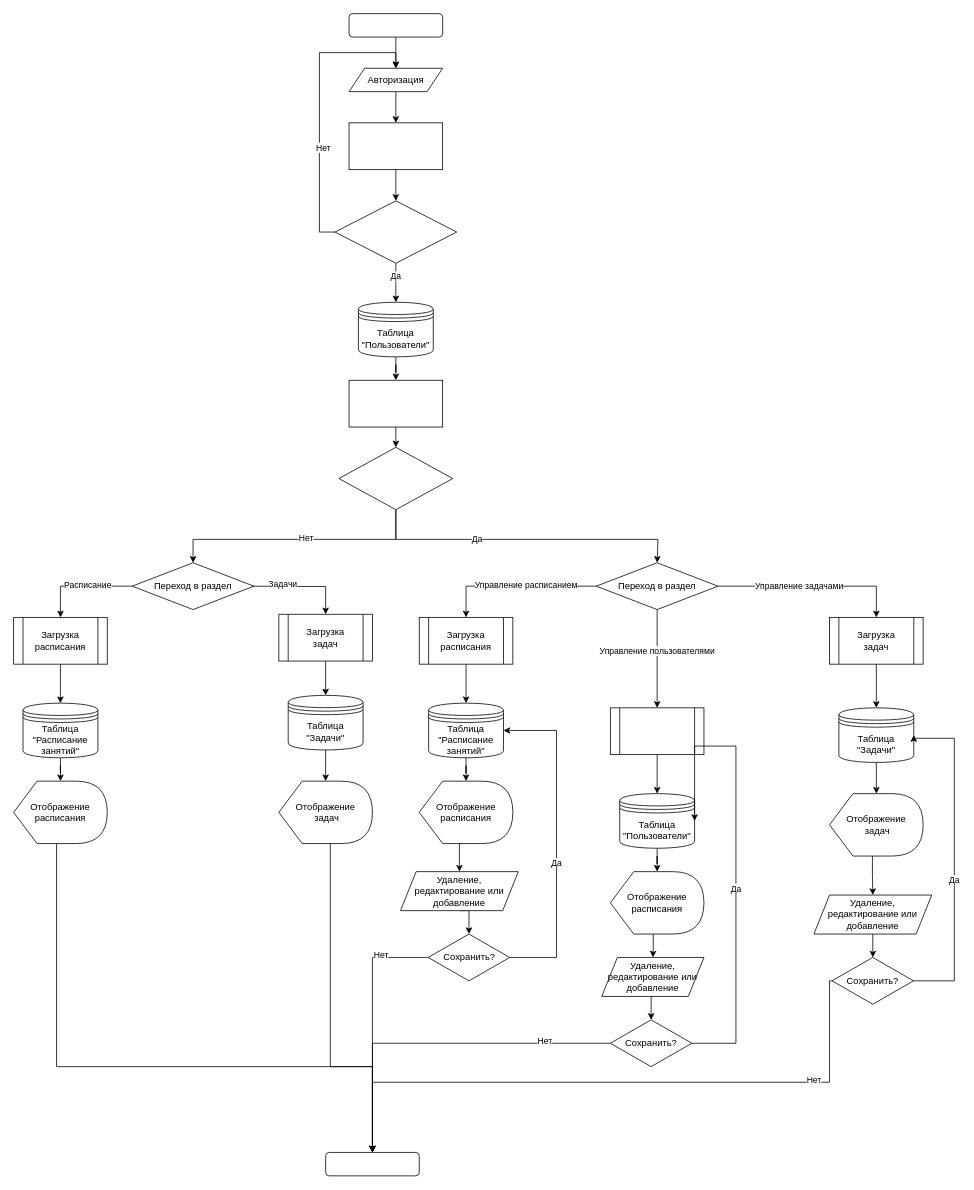
This 974x1190 diagram has some shape labels left out. Each missing label, with the box of its shape:
Загрузка профиля: (348, 379, 443, 427)
Загрузка списка пользователей: (610, 707, 704, 755)
Конец: (325, 1152, 419, 1176)
Начало: (348, 13, 443, 37)
Пользователь зарегистрирован: (334, 200, 457, 263)
Проверка существования пользователя: (348, 122, 443, 170)
Это администратор?: (338, 447, 453, 510)
